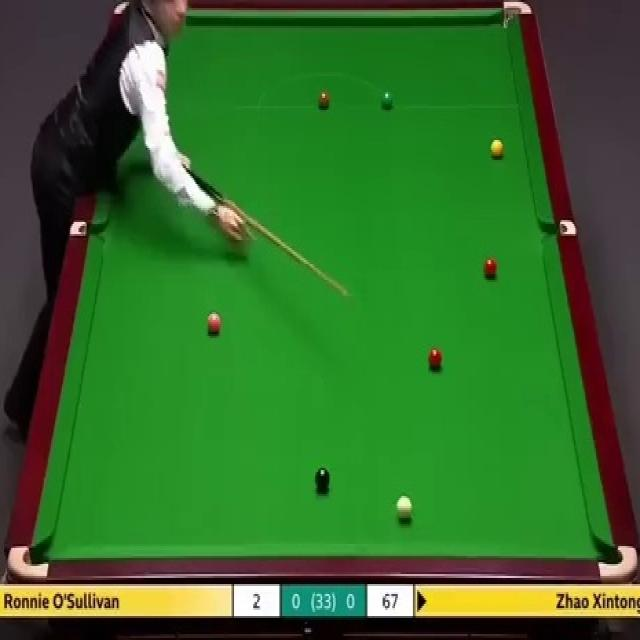pocket: (597, 542, 639, 584), (10, 543, 48, 585), (502, 0, 532, 32), (540, 218, 576, 237), (67, 220, 105, 235)
